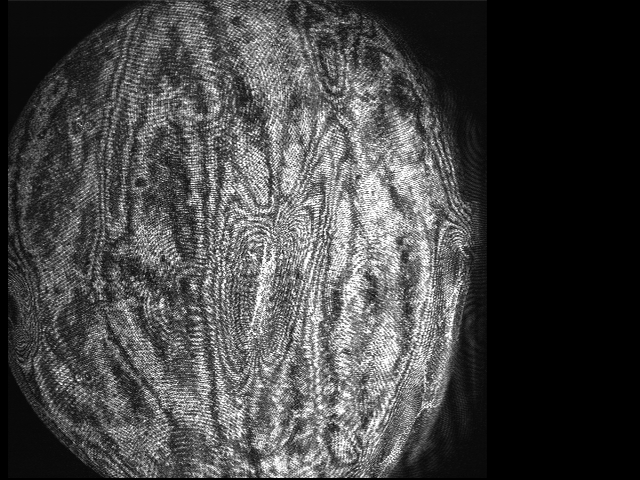plume: (219, 216, 306, 371)
